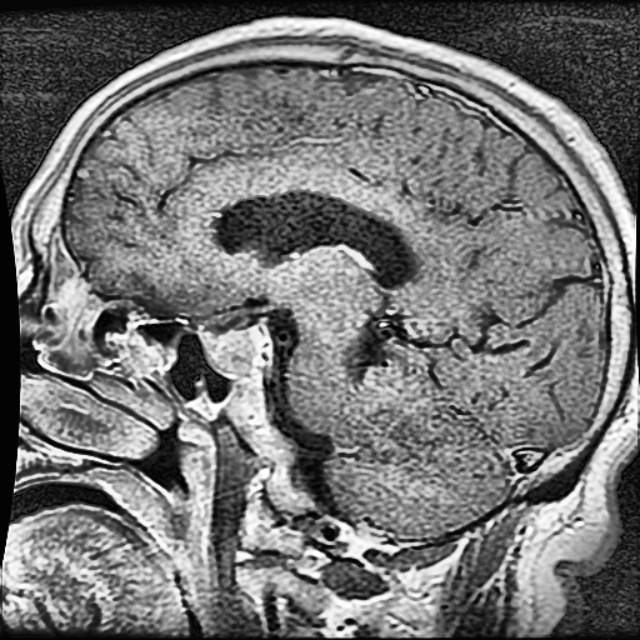Pituitary: (198, 323, 257, 382)
